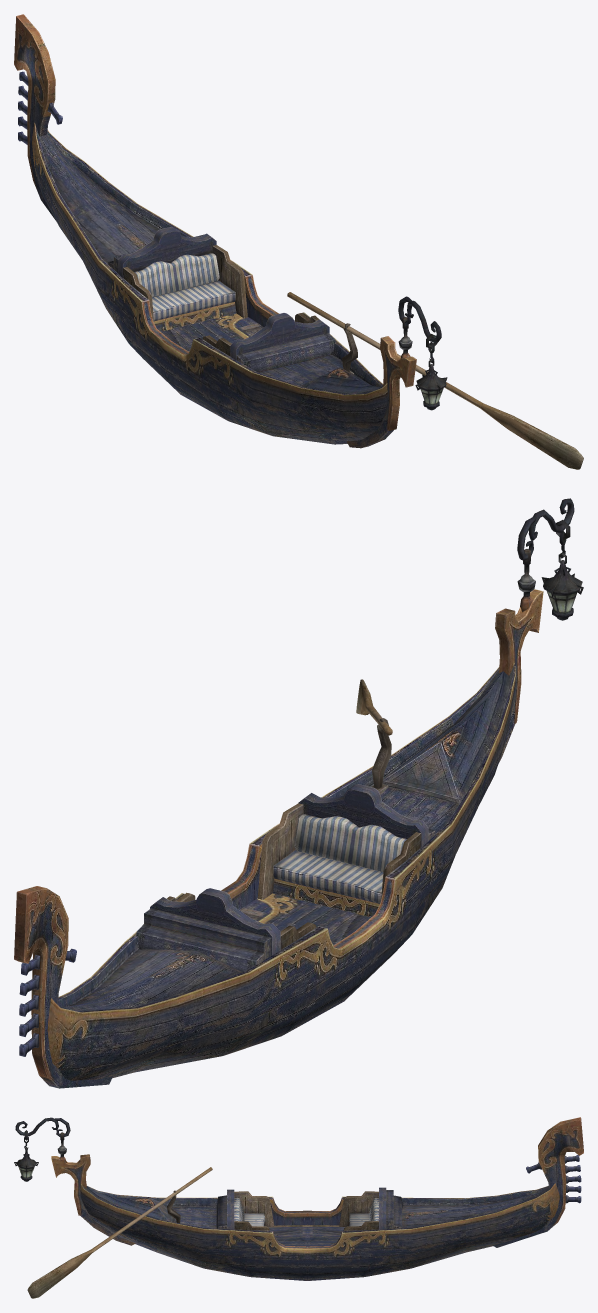
The model's file is gondol.obj.
The picture shows the model from 3 angles, top to bottom: view 1: azimuth 30°, elevation 25°; view 2: azimuth 150°, elevation 25°; view 3: azimuth 270°, elevation 25°; orthographic projection. The views are drawn at different scales.
Parts seen in each view (by area): view 1: Mesh30 skpE314_1 gondel1 Model, Mesh29 skpE314_1 gondel1 Model, Mesh19 skpE314_1 gondel1 Model, Mesh36 skpE314_1 gondel1 Model, Mesh27 skpE314_1 gondel1 Model, Mesh31 skpE314_1 gondel1 Model, Mesh25 skpE314_1 gondel1 Model, Mesh26 skpE314_1 gondel1 Model, Mesh32 skpE314_1 gondel1 Model, Mesh20 skpE314_1 gondel1 Model, Mesh33 skpE314_1 gondel1 Model, Mesh22 skpE314_1 gondel1 Model (+1 smaller); view 2: Mesh30 skpE314_1 gondel1 Model, Mesh29 skpE314_1 gondel1 Model, Mesh28 skpE314_1 gondel1 Model, Mesh23 skpE314_1 gondel1 Model, Mesh24 skpE314_1 gondel1 Model, Mesh26 skpE314_1 gondel1 Model, Mesh20 skpE314_1 gondel1 Model, Mesh27 skpE314_1 gondel1 Model, Mesh31 skpE314_1 gondel1 Model, Mesh34 skpE314_1 gondel1 Model, Mesh21 skpE314_1 gondel1 Model, Mesh13 skpE314_1 gondel1 Model (+1 smaller); view 3: Mesh30 skpE314_1 gondel1 Model, Mesh29 skpE314_1 gondel1 Model, Mesh19 skpE314_1 gondel1 Model, Mesh20 skpE314_1 gondel1 Model, Mesh27 skpE314_1 gondel1 Model, Mesh37 skpE314_1 gondel1 Model, Mesh35 skpE314_1 gondel1 Model, Mesh28 skpE314_1 gondel1 Model, Mesh13 skpE314_1 gondel1 Model, Mesh25 skpE314_1 gondel1 Model, Mesh31 skpE314_1 gondel1 Model, Mesh26 skpE314_1 gondel1 Model (+3 smaller).
Part boxes in pixels (<box>): Mesh30 skpE314_1 gondel1 Model: <box>32,122,387,444</box>; Mesh29 skpE314_1 gondel1 Model: <box>14,14,55,220</box>; Mesh19 skpE314_1 gondel1 Model: <box>287,292,583,469</box>; Mesh36 skpE314_1 gondel1 Model: <box>134,253,219,297</box>; Mesh27 skpE314_1 gondel1 Model: <box>346,336,416,448</box>; Mesh31 skpE314_1 gondel1 Model: <box>118,227,216,277</box>; Mesh25 skpE314_1 gondel1 Model: <box>236,333,335,372</box>; Mesh26 skpE314_1 gondel1 Model: <box>230,313,329,360</box>; Mesh32 skpE314_1 gondel1 Model: <box>152,280,235,321</box>; Mesh20 skpE314_1 gondel1 Model: <box>161,313,263,351</box>; Mesh33 skpE314_1 gondel1 Model: <box>212,245,247,318</box>; Mesh22 skpE314_1 gondel1 Model: <box>154,302,236,331</box>; Mesh30 skpE314_1 gondel1 Model: <box>47,663,515,1080</box>; Mesh29 skpE314_1 gondel1 Model: <box>14,886,112,1088</box>; Mesh28 skpE314_1 gondel1 Model: <box>136,908,271,971</box>; Mesh23 skpE314_1 gondel1 Model: <box>294,814,406,871</box>; Mesh24 skpE314_1 gondel1 Model: <box>273,850,383,903</box>; Mesh26 skpE314_1 gondel1 Model: <box>298,784,428,846</box>; Mesh20 skpE314_1 gondel1 Model: <box>239,893,370,945</box>; Mesh27 skpE314_1 gondel1 Model: <box>495,589,543,762</box>; Mesh31 skpE314_1 gondel1 Model: <box>150,888,280,955</box>; Mesh34 skpE314_1 gondel1 Model: <box>257,803,303,899</box>; Mesh21 skpE314_1 gondel1 Model: <box>272,879,379,917</box>; Mesh13 skpE314_1 gondel1 Model: <box>543,560,582,620</box>; Mesh30 skpE314_1 gondel1 Model: <box>80,1183,559,1280</box>; Mesh29 skpE314_1 gondel1 Model: <box>493,1117,583,1247</box>; Mesh19 skpE314_1 gondel1 Model: <box>27,1167,212,1298</box>; Mesh20 skpE314_1 gondel1 Model: <box>268,1224,345,1246</box>; Mesh27 skpE314_1 gondel1 Model: <box>51,1154,135,1245</box>; Mesh37 skpE314_1 gondel1 Model: <box>339,1191,378,1226</box>; Mesh35 skpE314_1 gondel1 Model: <box>234,1191,274,1226</box>; Mesh28 skpE314_1 gondel1 Model: <box>386,1190,402,1228</box>; Mesh13 skpE314_1 gondel1 Model: <box>16,1151,36,1181</box>; Mesh25 skpE314_1 gondel1 Model: <box>216,1195,226,1228</box>; Mesh31 skpE314_1 gondel1 Model: <box>379,1187,386,1229</box>; Mesh26 skpE314_1 gondel1 Model: <box>227,1189,234,1229</box>.
Bounding box in the file's own units: 1.65 × 1.7 × 5.7.
2 materials, 2 textured.
